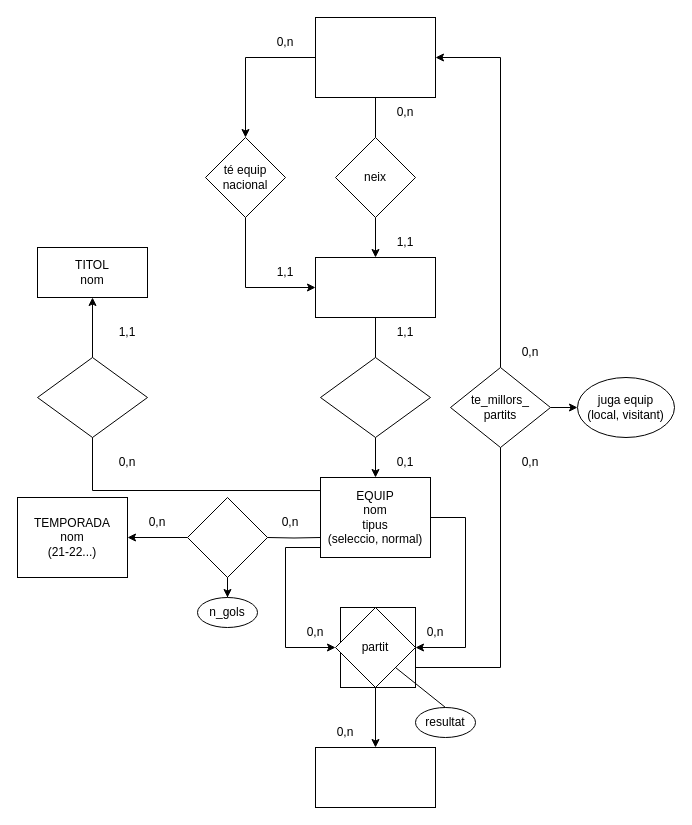
The diagram is 692 pixels wide and 825 high, and some of its shapes have lost their labels. Here are the shapes that lost their labels. From the top down, the centre of each, then its label:
point 375,57: JUGADOR nom lli1 lli2 (op) data_naixement
point 375,287: PAÍS id nom
point 92,397: te_millors_ titols
point 375,397: pertany_ national_ team
point 375,777: DATA
